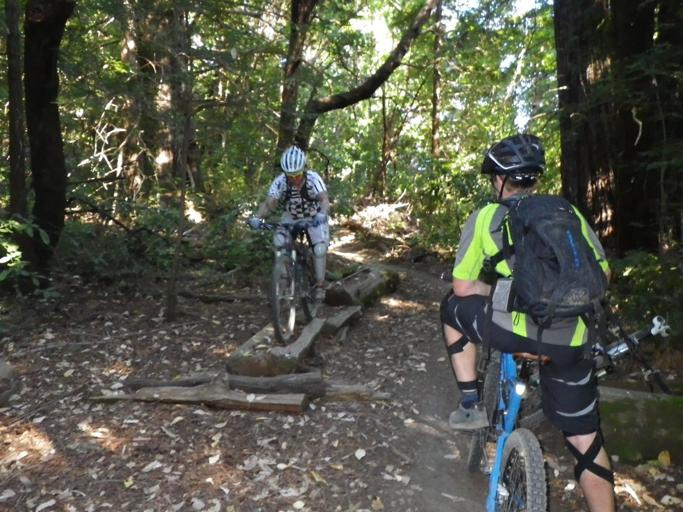non-vehicle: (436, 261, 554, 511), (482, 293, 680, 436), (246, 209, 323, 346)
